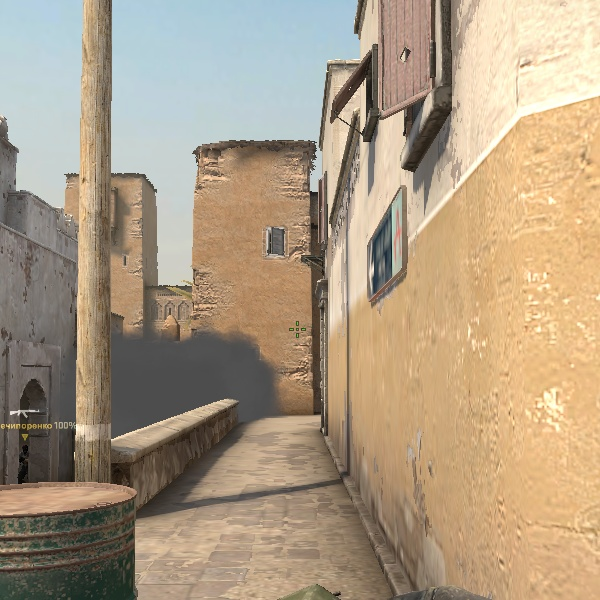t_body: (19, 445, 29, 483)
t_head: (23, 445, 29, 455)
